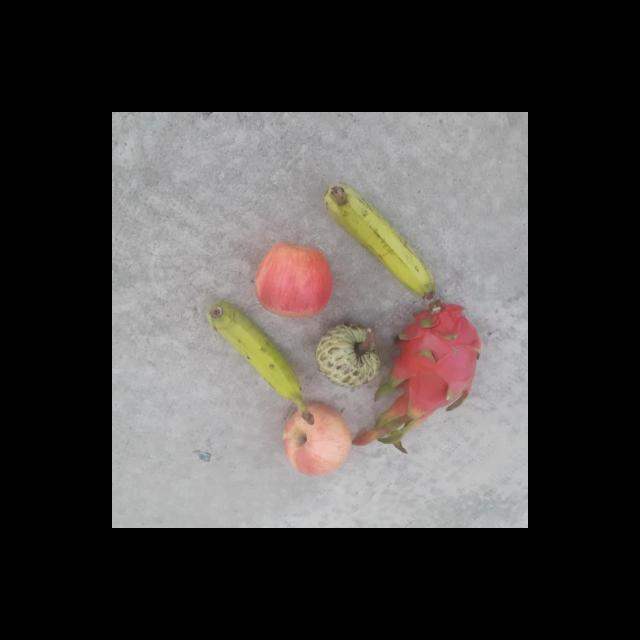Sakya fruit: (314, 321, 382, 389)
apple: (252, 240, 334, 320), (284, 401, 354, 478)
banana: (205, 301, 318, 424), (324, 186, 438, 300)
pitaya: (386, 299, 486, 423)
